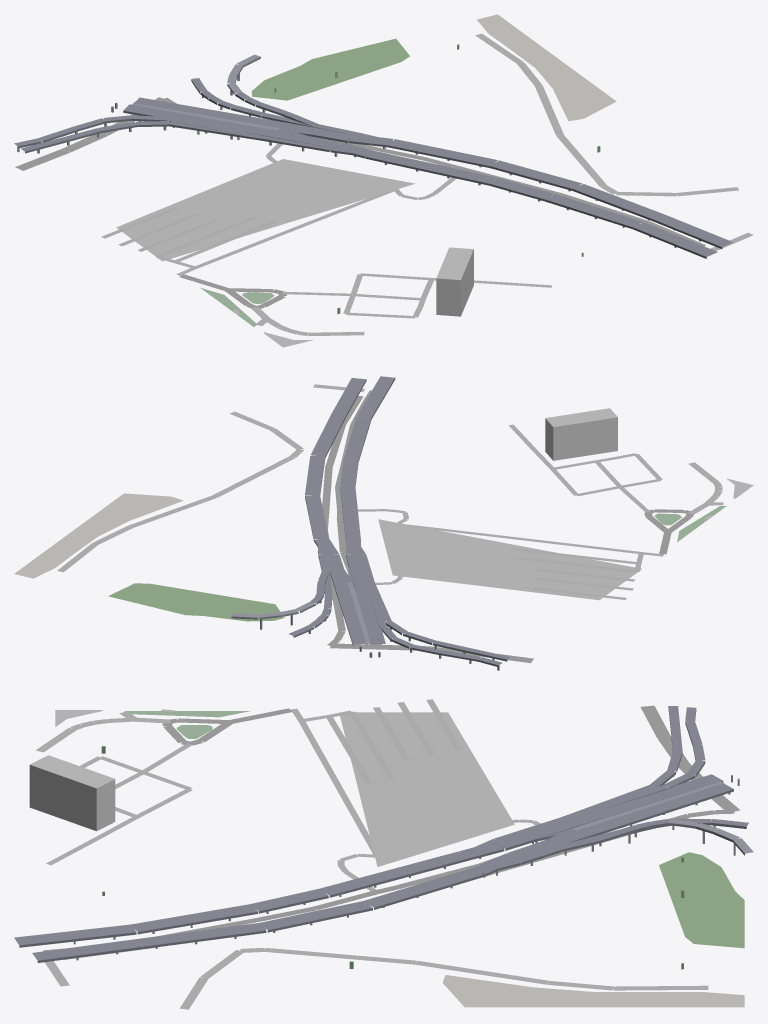
3 views of the same model, one above another, from view 1: azimuth 30°, elevation 25°; view 2: azimuth 150°, elevation 25°; view 3: azimuth 270°, elevation 25° (orthographic). The views are drawn at different scales.
Size of the model in its own units: 524 by 38.07 by 537.
